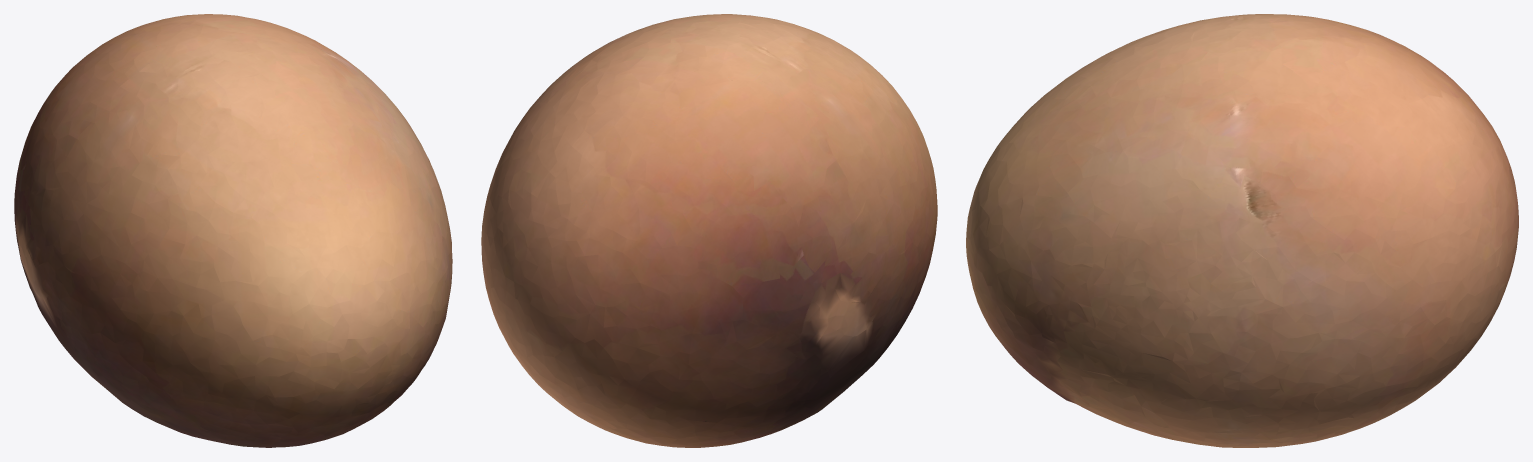
The model's file is Egg.fbx.
The picture shows the model from 3 angles, left to right: view 1: azimuth 30°, elevation 25°; view 2: azimuth 150°, elevation 25°; view 3: azimuth 270°, elevation 25°; orthographic projection. The views are drawn at different scales.
Parts seen in each view (by area): view 1: Egg_okay; view 2: Egg_okay; view 3: Egg_okay.
Part boxes in pixels (left/top/right/bottom): Egg_okay: left=14, top=14, right=452, bottom=447; Egg_okay: left=481, top=14, right=937, bottom=447; Egg_okay: left=966, top=14, right=1518, bottom=447.
Bounding box in the file's own units: 4.55 × 4.56 × 5.81.
